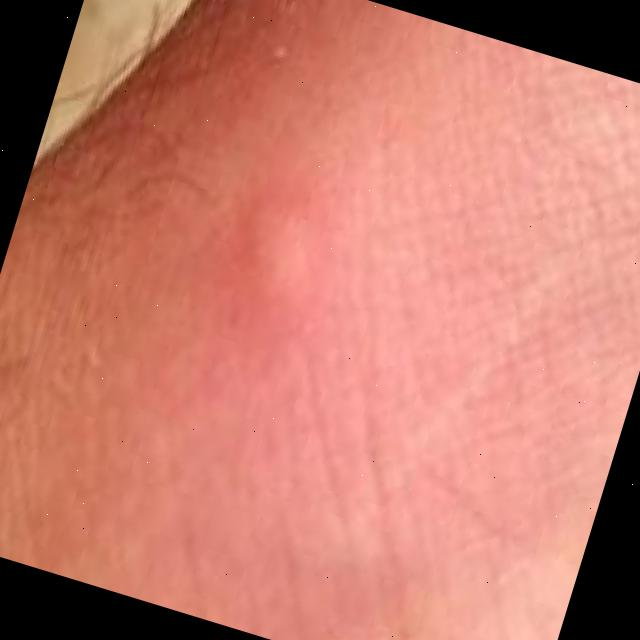sinek: (100, 121, 404, 388)
